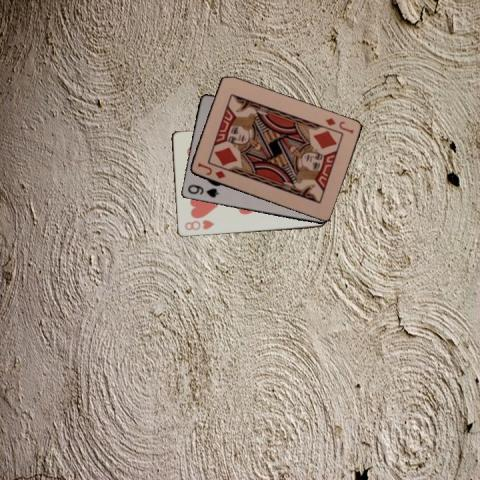8h: (182, 217, 215, 232)
9s: (185, 182, 219, 199)
Jd: (194, 159, 226, 180), (322, 115, 355, 135)
